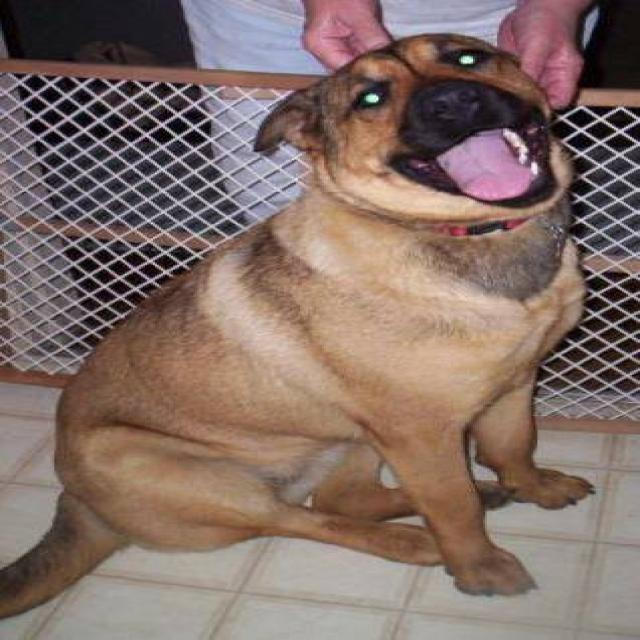dog: (0, 32, 598, 623)
